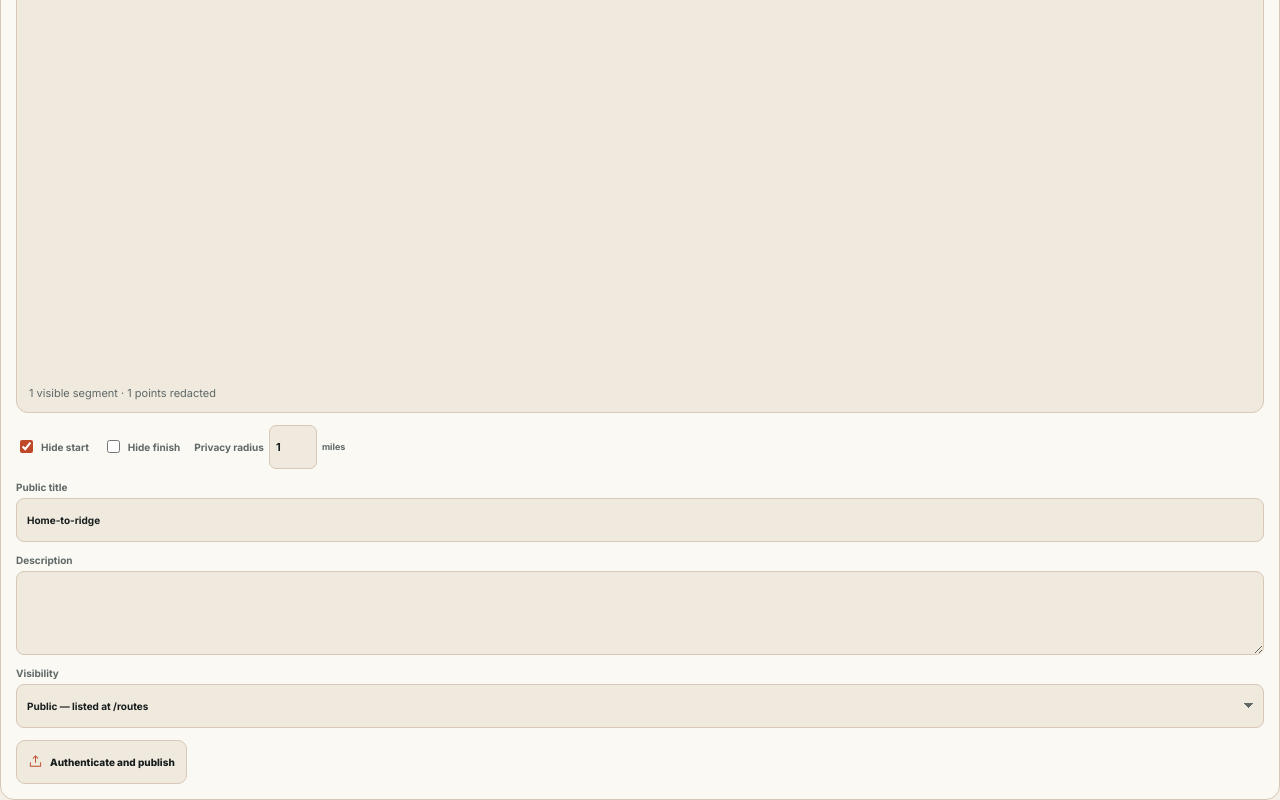
Test case: CommunityPublishPanel › shows the exact preview before publishing and never sends the private route
(page scrolled)
What coordinates should you click on to do the following:
click the button "Authenticate and publish"
I would click on:
 (101, 762)
Its box is left=16, top=740, right=187, bottom=784.
(page scrolled)
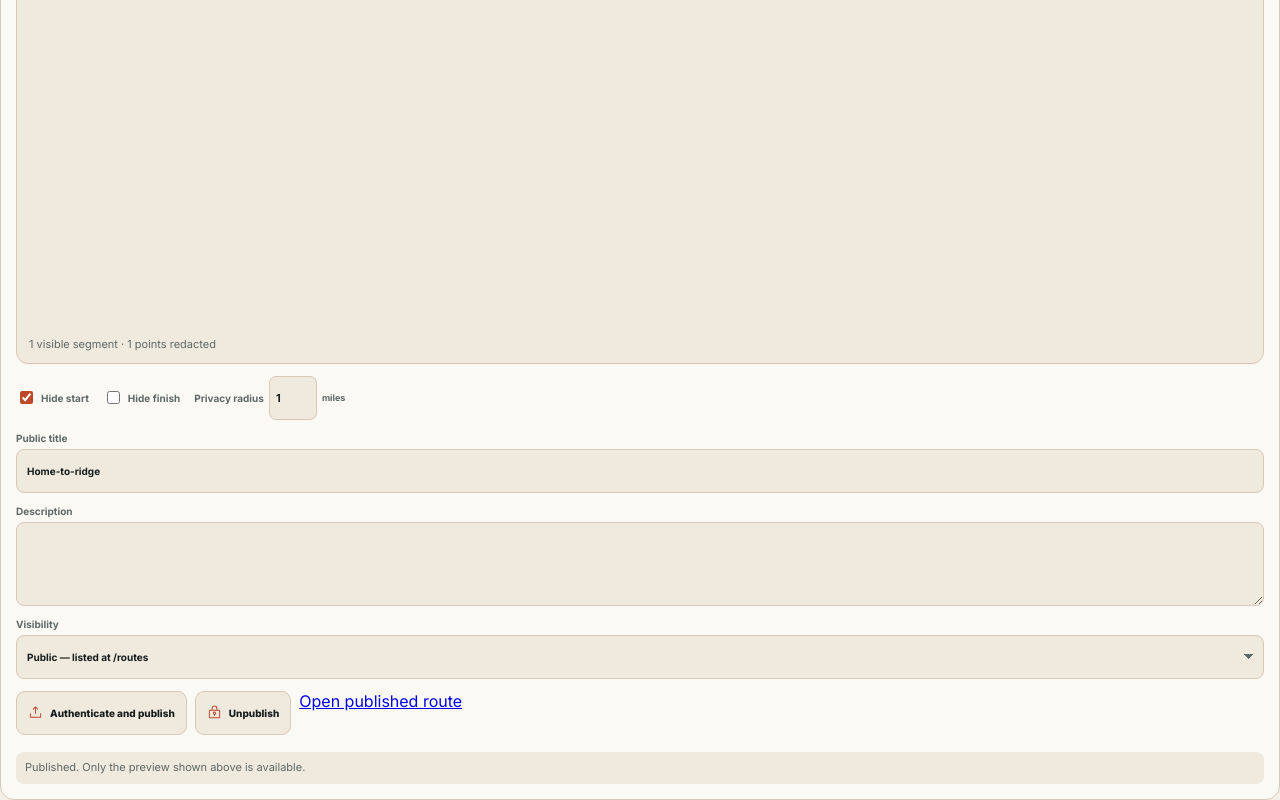
Now the message shows "Published", box left=25, top=760, right=305, bottom=774
